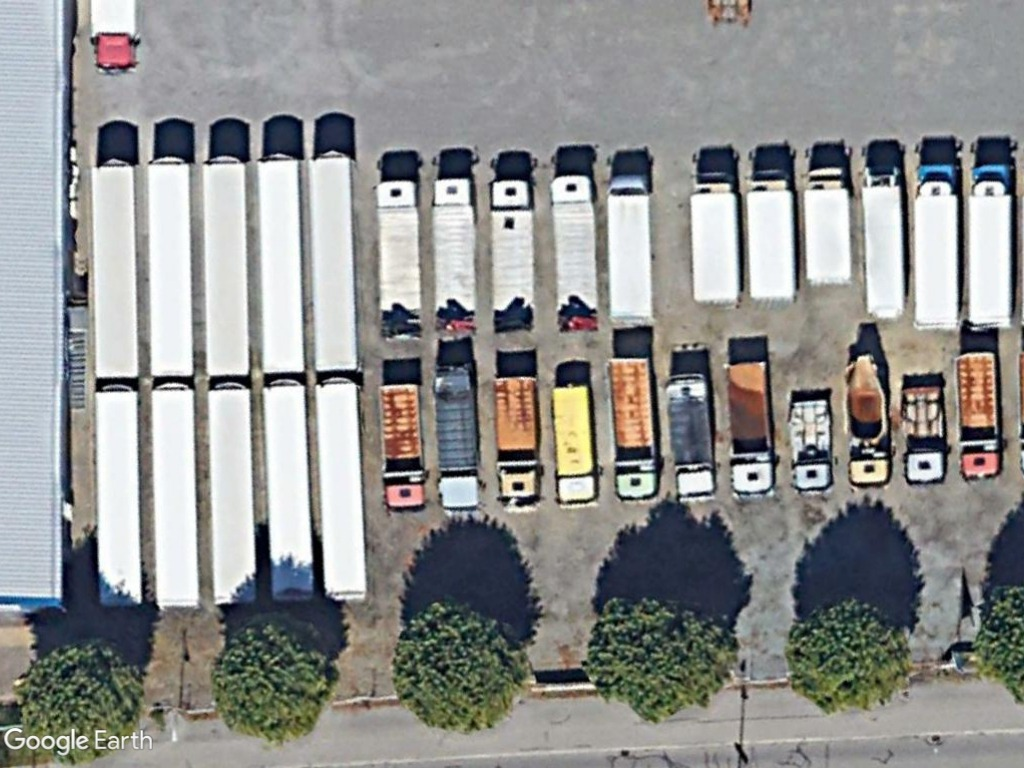car: (373, 180, 425, 321)
longvehicle: (309, 376, 370, 602), (256, 381, 318, 603), (302, 150, 362, 374), (86, 384, 145, 609), (141, 151, 197, 383), (204, 381, 260, 607), (89, 158, 143, 384), (149, 384, 203, 610), (200, 152, 253, 378), (255, 149, 307, 379)
others: (602, 354, 662, 503), (430, 362, 484, 514), (724, 356, 779, 500), (489, 374, 546, 511), (950, 347, 1006, 481), (662, 372, 719, 503), (376, 381, 428, 512), (549, 382, 601, 509), (901, 378, 951, 485), (787, 392, 837, 495)
truck: (909, 164, 963, 331), (603, 173, 656, 326), (965, 162, 1012, 332), (546, 172, 600, 318), (428, 174, 480, 322), (685, 170, 741, 306), (861, 164, 907, 323), (744, 167, 797, 304), (486, 176, 537, 316), (802, 164, 852, 287)
